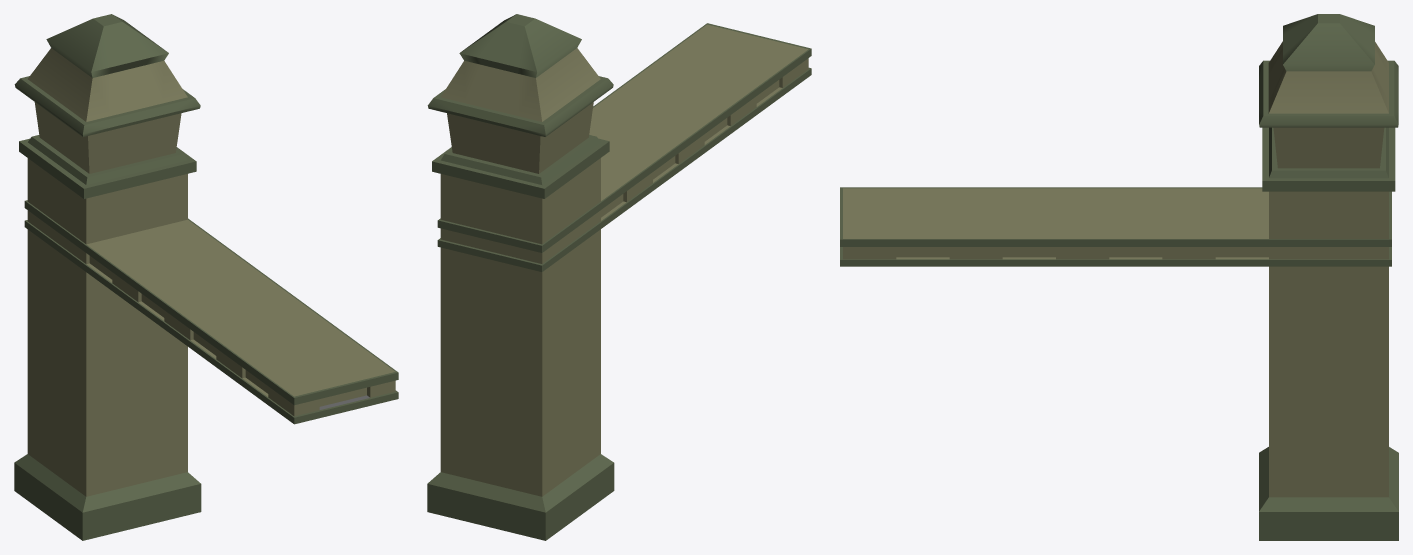
File: pillar01_platform.fbx
3 renders of one model, left to right at view 1: azimuth 30°, elevation 25°; view 2: azimuth 150°, elevation 25°; view 3: azimuth 270°, elevation 25°, orthographic. The views are drawn at different scales.
Visible parts, largest first — view 1: pillar01_platform; view 2: pillar01_platform; view 3: pillar01_platform.
Boxes of the visible parts, <box> form: pillar01_platform: <box>14,14,398,540</box>; pillar01_platform: <box>427,14,811,540</box>; pillar01_platform: <box>840,14,1398,540</box>.
Size of the model in its own units: 0.2033 by 0.789 by 0.811.
